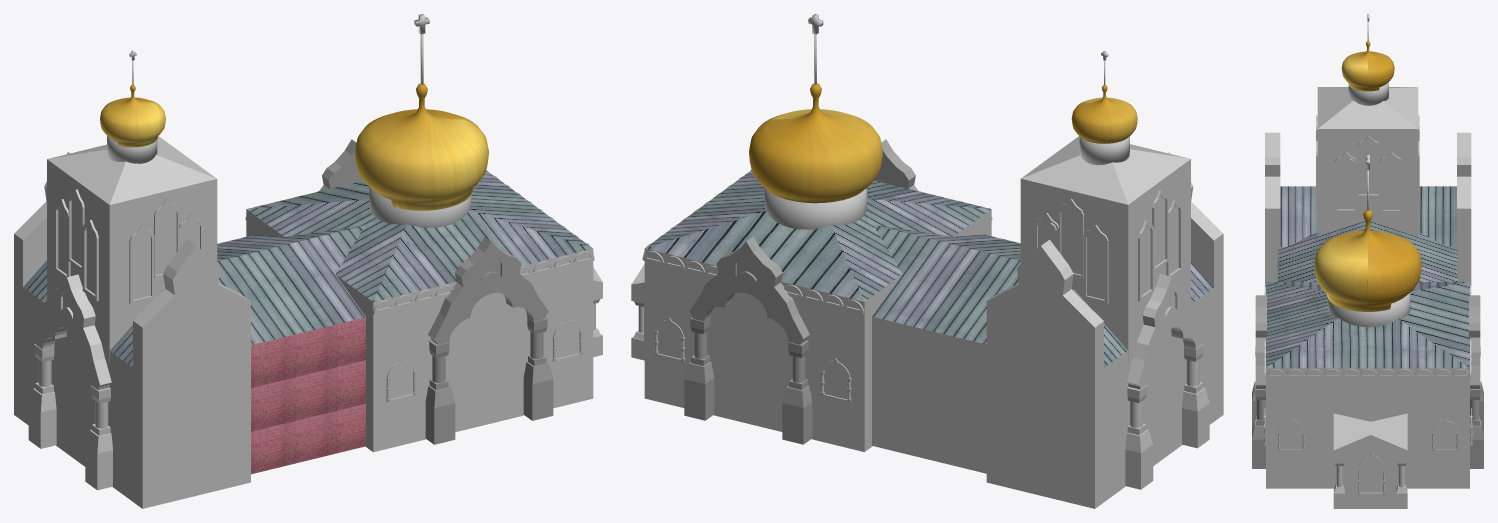
Rendered from house.obj.
The picture shows the model from 3 angles, left to right: view 1: azimuth 30°, elevation 25°; view 2: azimuth 150°, elevation 25°; view 3: azimuth 270°, elevation 25°; orthographic projection. The views are drawn at different scales.
Parts seen in each view (by area): view 1: Cube, Circle_Circle.001, Plane.001, Plane.002, Circle.035_Circle.037, Cylinder, Circle.036_Circle.022, Circle.037_Circle.023, Plane.000, Cylinder.002, Cube.001_Cube.005; view 2: Cube, Circle_Circle.001, Plane.000, Plane.002, Cylinder, Circle.035_Circle.037, Circle.036_Circle.022, Circle.038, Plane.001, Cylinder.002, Cube.006_Cube.008; view 3: Cube, Circle_Circle.001, Plane.001, Plane.000, Circle.035_Circle.037, Circle.039, Cylinder, Cube.003_Cube.006, Cylinder.002, Circle.024_Circle.026.
Part boxes in pixels (x1,y1,x2,y2): Cube: [14, 136, 602, 508]; Circle_Circle.001: [355, 83, 488, 210]; Plane.001: [425, 236, 553, 444]; Plane.002: [28, 274, 112, 490]; Circle.035_Circle.037: [100, 85, 165, 147]; Cylinder: [369, 187, 471, 227]; Circle.036_Circle.022: [54, 189, 98, 300]; Circle.037_Circle.023: [129, 199, 203, 304]; Plane.000: [319, 139, 363, 191]; Cylinder.002: [107, 136, 157, 163]; Cube.001_Cube.005: [373, 258, 594, 314]; Cube: [631, 136, 1223, 508]; Circle_Circle.001: [749, 83, 882, 203]; Plane.000: [684, 236, 812, 444]; Plane.002: [1125, 274, 1209, 489]; Cylinder: [765, 188, 866, 229]; Circle.035_Circle.037: [1071, 85, 1137, 143]; Circle.036_Circle.022: [1138, 190, 1182, 301]; Circle.038: [1034, 199, 1108, 304]; Plane.001: [874, 139, 918, 191]; Cylinder.002: [1079, 136, 1129, 165]; Cube.006_Cube.008: [643, 257, 864, 314]; Cube: [1265, 87, 1471, 508]; Circle_Circle.001: [1314, 210, 1421, 311]; Plane.001: [1252, 295, 1266, 468]; Plane.000: [1469, 295, 1483, 468]; Circle.035_Circle.037: [1341, 41, 1394, 91]; Circle.039: [1334, 135, 1402, 212]; Cylinder: [1328, 293, 1410, 327]; Cube.003_Cube.006: [1266, 375, 1470, 378]; Cylinder.002: [1348, 82, 1388, 105]; Circle.024_Circle.026: [1358, 452, 1385, 494].
Bounding box in the file's own units: 11.76 × 8.57 × 5.65.
